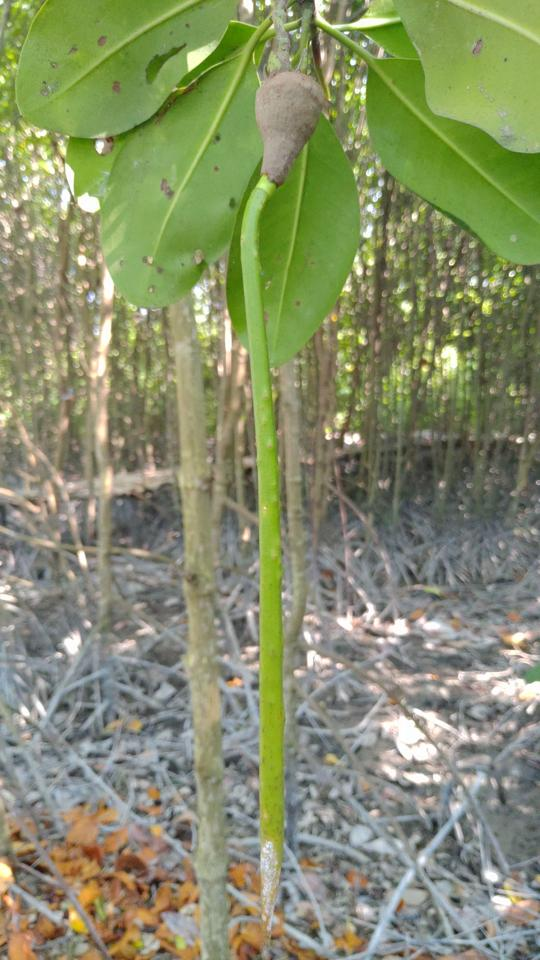setengah matang: (232, 38, 340, 945)
